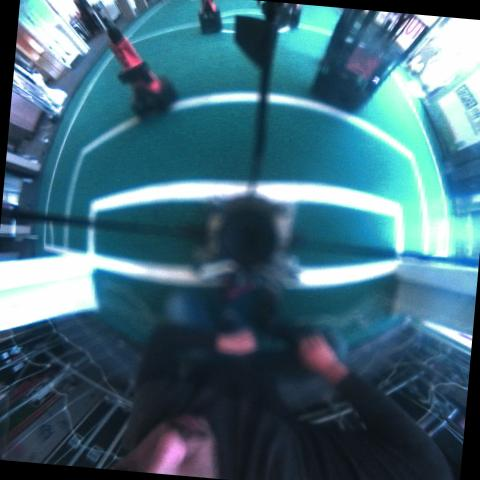ball: (160, 0, 165, 2)
goal: (0, 255, 96, 331), (399, 263, 477, 298)
robot: (310, 8, 431, 115), (97, 5, 180, 123), (198, 0, 224, 34), (274, 3, 301, 28)
